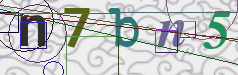5: (202, 9, 232, 50)
7: (62, 6, 90, 49)
b: (107, 6, 139, 48)
n: (18, 13, 46, 47), (156, 19, 186, 49)
